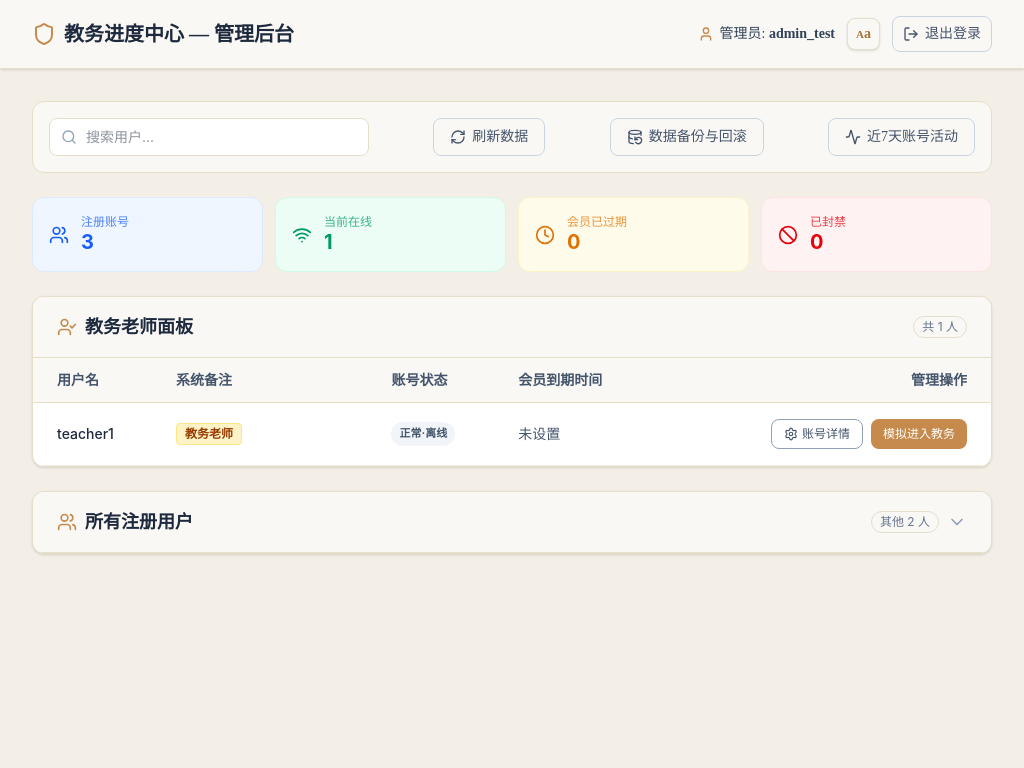
AdminDashboard Component › renders Teacher Panel (default view) and handles All Registered Users collapsible section
The image size is (1024, 768).
Check: the heading "教务老师面板" is shown, box [85,313,193,341]
Check: the text "teacher1" is shown, box [33,402,152,466]
Note: Click to expand "所有注册用户"
What coordinates should you click on to do the following:
click the heading "所有注册用户"
I would click on:
 (139, 522)
Its box is [85,508,193,536].
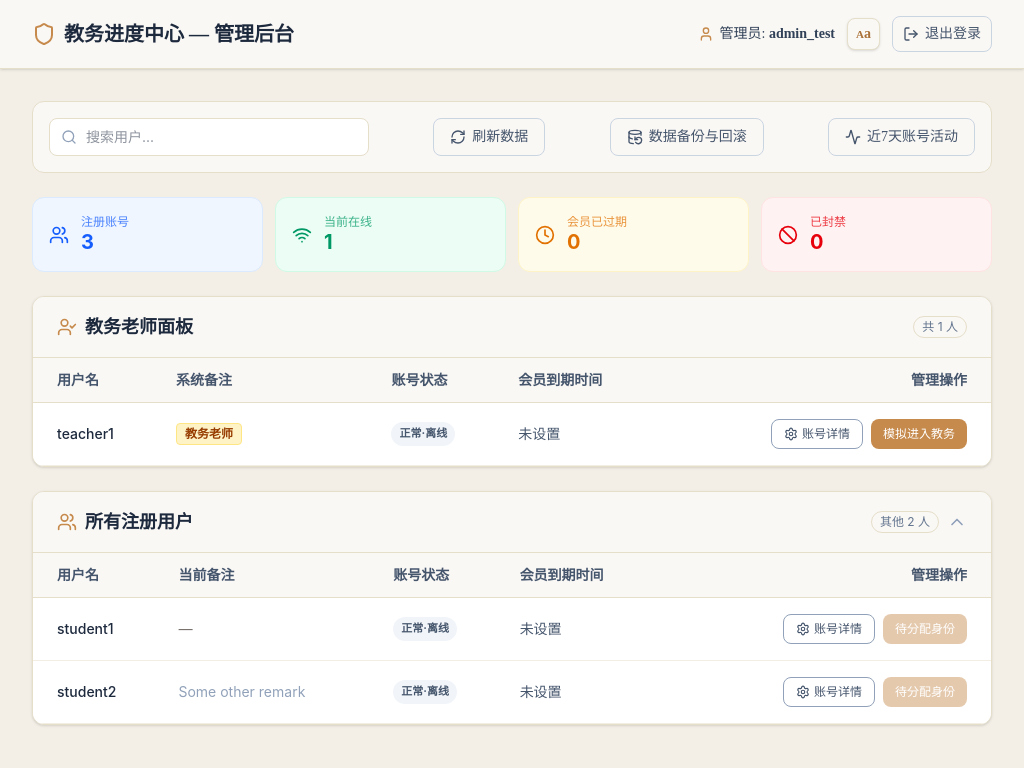
Check: the text "student1" is shown, box [33,598,154,660]
Check: the text "student2" is shown, box [33,660,154,724]
